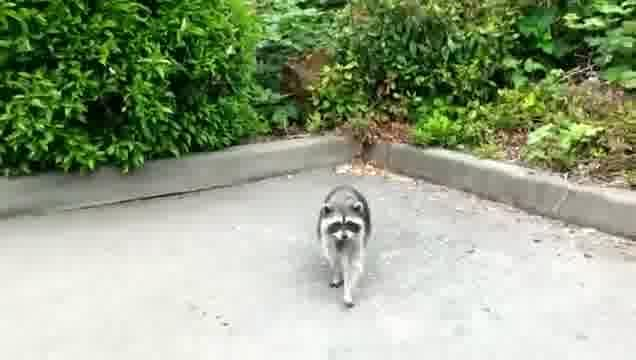raccoon: (310, 184, 376, 308)
